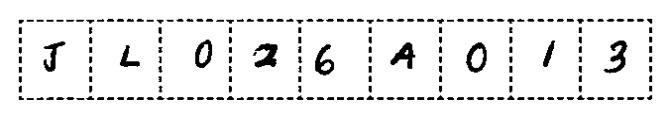0: (463, 38, 492, 74), (188, 37, 218, 70)
1: (530, 37, 562, 70)
2: (248, 40, 283, 74)
3: (600, 35, 634, 79)
6: (308, 40, 340, 80)
A: (384, 35, 422, 75)
J: (38, 34, 70, 77)
L: (112, 40, 144, 72)
